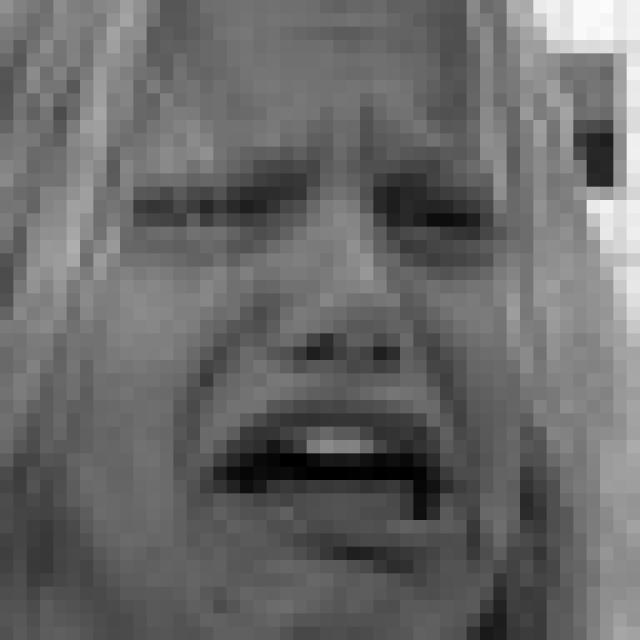sad: (115, 100, 504, 589)
